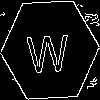W: (25, 25, 70, 74)
